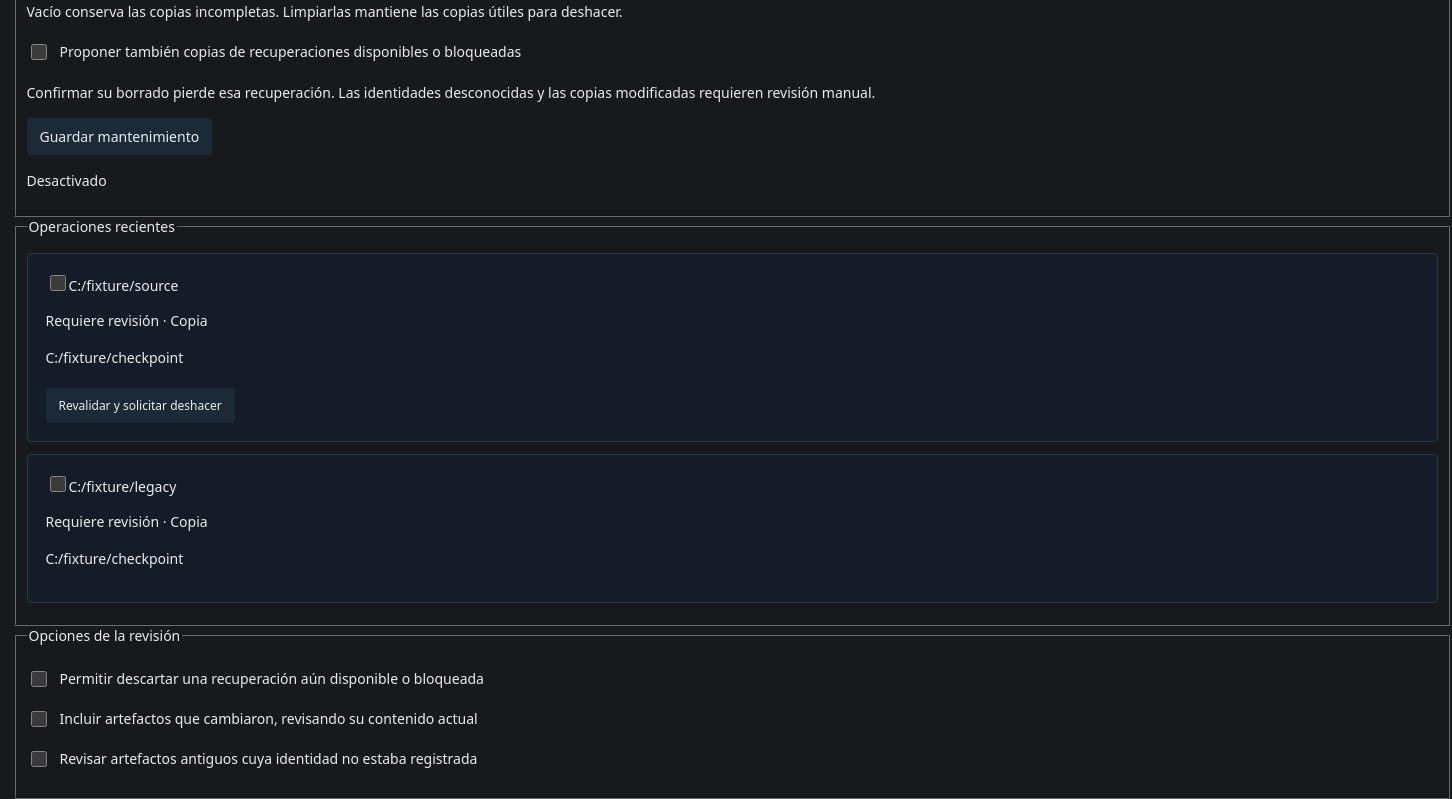
blocked native recovery requests explicit revalidation and keeps a rejected conflict visible
(page scrolled)
Click the button "Revalidar y solicitar deshacer" at (140, 405), box top-left (46, 388), bottom-right (235, 423)
(page scrolled)
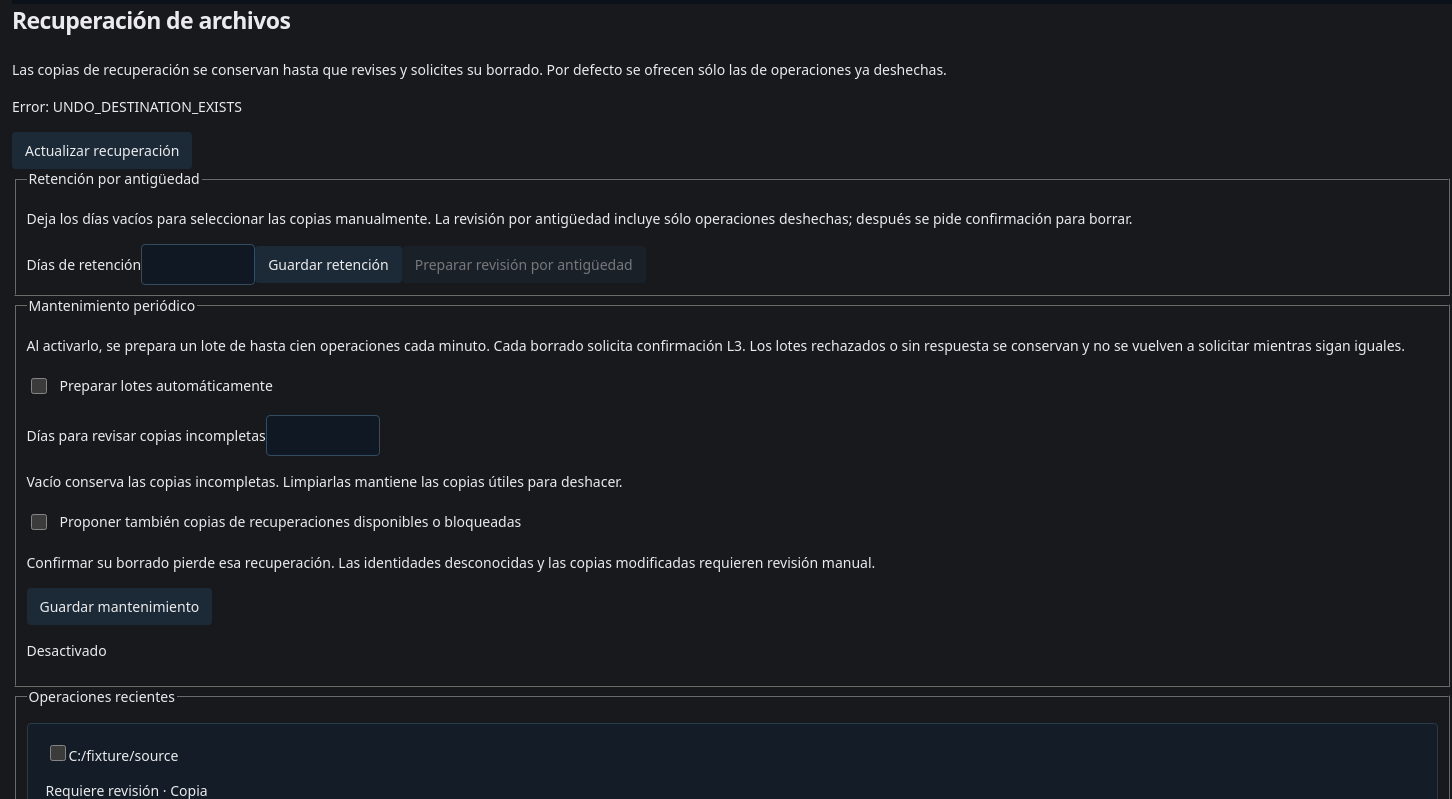
Check: the message shows "UNDO_DESTINATION_EXISTS", box top-left (12, 97), bottom-right (242, 116)
